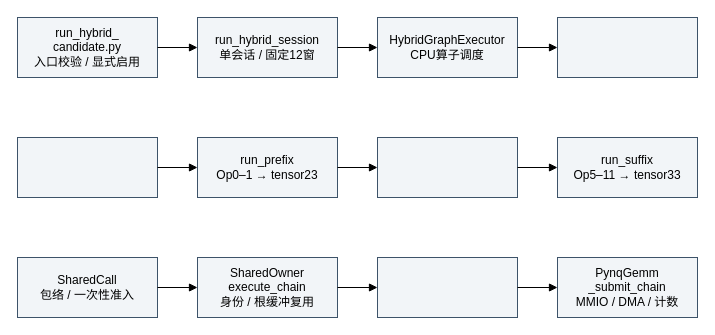
Image size: 715x335. Some labels were removed from this diagram. The centre of each missing label's shape, as x and y in pixels:
FlatPackPynqGemm run_chain 链式任务与布局: point (447, 287)
Frontend.process WAV → 49×10 INT8: point (87, 167)
SharedCall + depthwise Op2 → DW3 → Op4: point (447, 167)
结果与回执 文件 / 日志 / 数值核验: point (627, 47)
